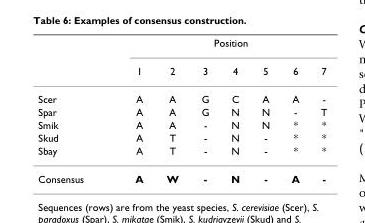table: (37, 36, 326, 184)
table column: (37, 36, 108, 184), (108, 36, 154, 184), (154, 36, 189, 184), (189, 36, 219, 184), (219, 36, 249, 184), (249, 36, 279, 184), (279, 36, 309, 184), (309, 36, 326, 184)
table column header: (37, 36, 326, 84)
table row: (37, 56, 326, 84), (37, 143, 326, 164), (37, 36, 326, 56), (37, 84, 326, 104), (37, 164, 326, 184), (37, 104, 326, 117), (37, 117, 326, 130), (37, 130, 326, 143)
table spanning cell: (108, 36, 326, 56)
